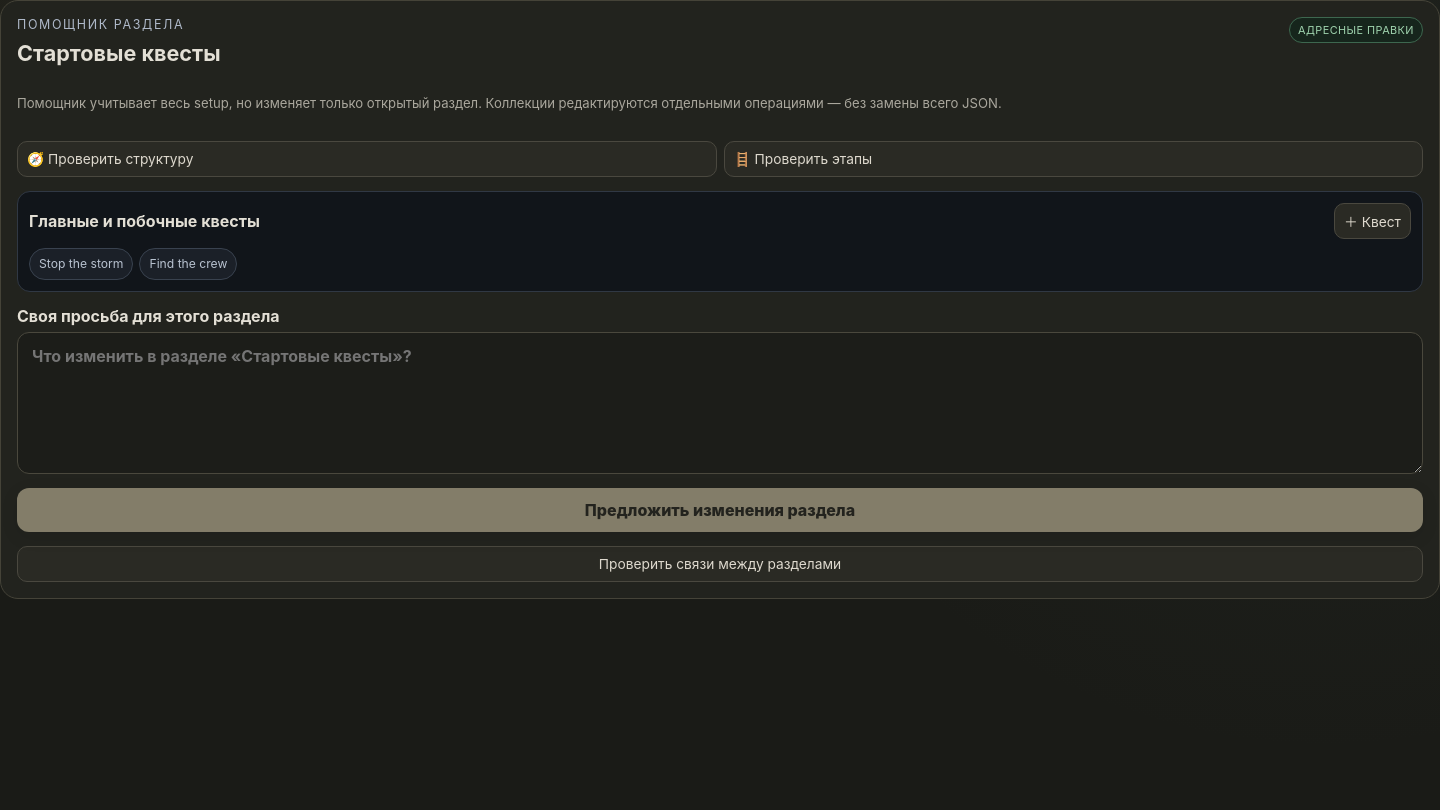
Test case: shows nested quest and stage controls for the initial quest section
This screenshot has width=1440, height=810.
Check: the button "＋ Квест" is shown, box 1334,203 -> 1411,239
Click the button "Stop the storm". click: (81, 264)
box: 29,248 -> 134,280
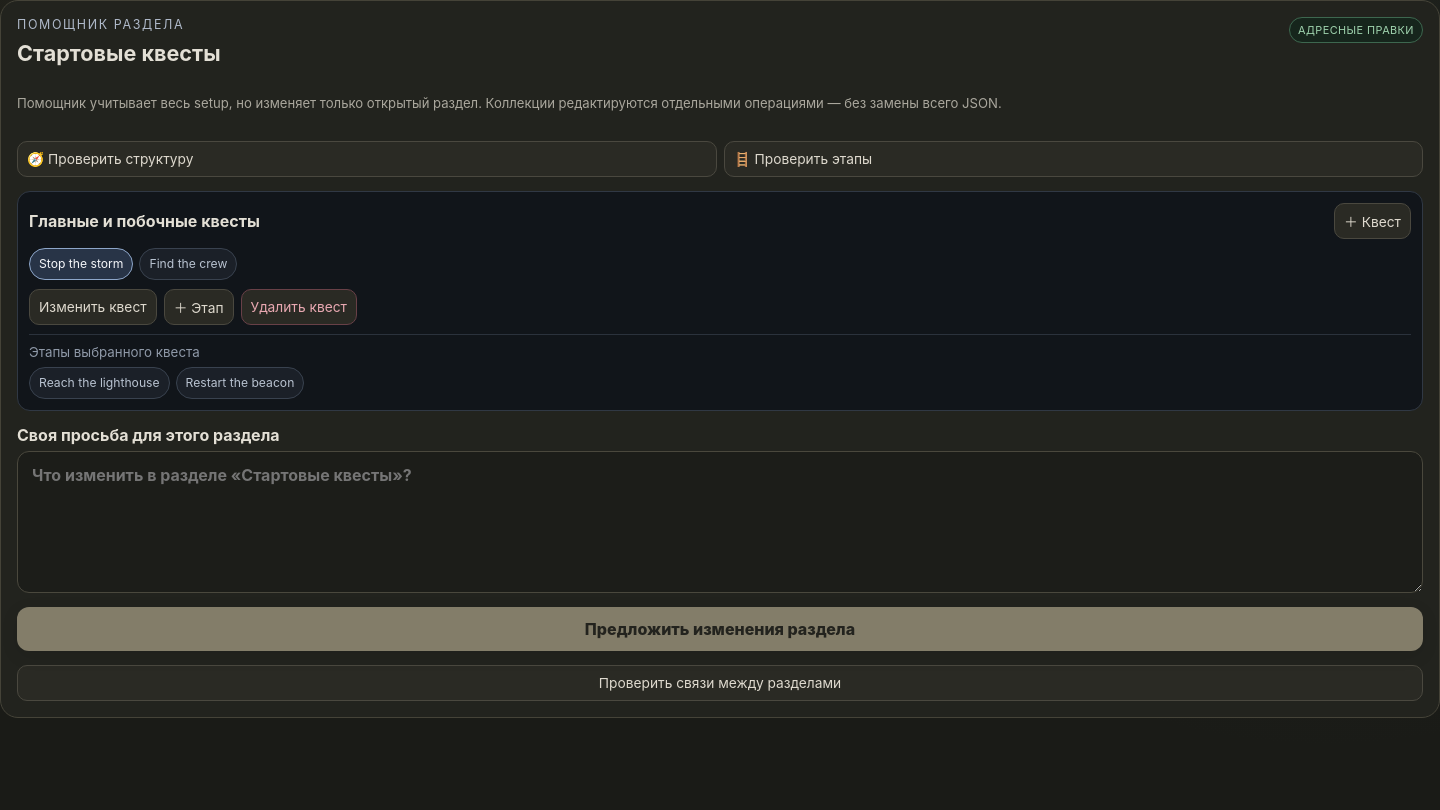
Check: the button "＋ Этап" is shown, box 164,289 -> 234,325
Check: the button "Reach the lighthouse" is shown, box 29,367 -> 170,399
Check: the button "Restart the beacon" is shown, box 176,367 -> 304,399
